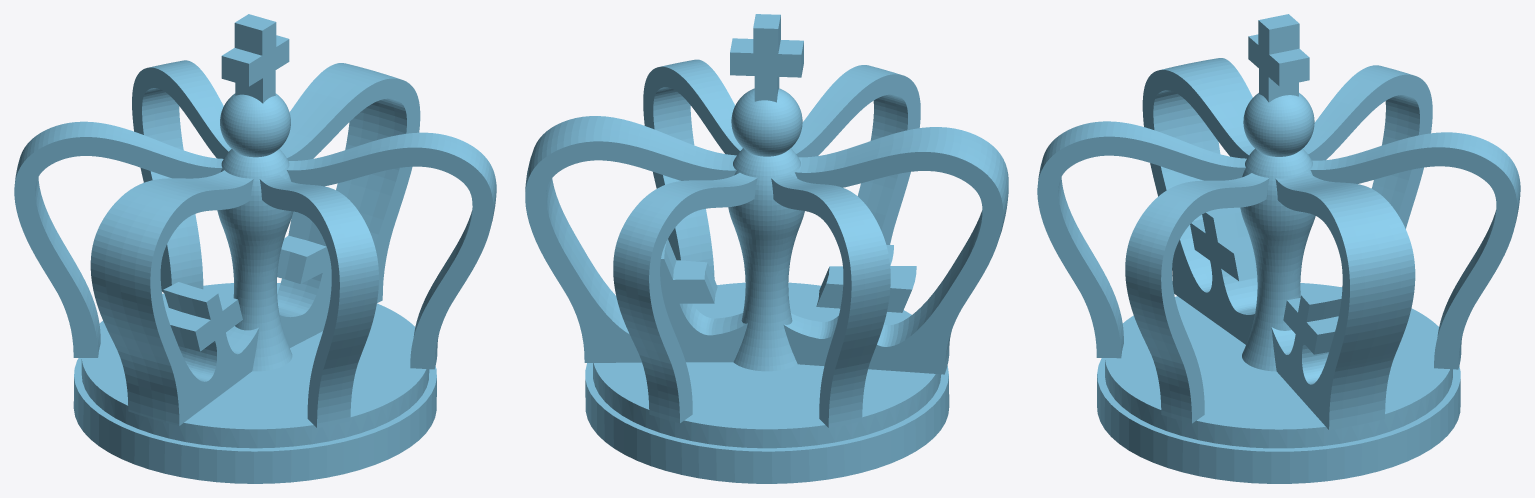
Rendered from BLENDERCROWN.gltf.
The picture shows the model from 3 angles, left to right: view 1: azimuth 30°, elevation 25°; view 2: azimuth 150°, elevation 25°; view 3: azimuth 270°, elevation 25°; orthographic projection.
Parts seen in each view (by area): view 1: CROWN; view 2: CROWN; view 3: CROWN.
Part boxes in pixels (x1,y1,x2,y2): CROWN: (14, 14, 496, 483); CROWN: (525, 14, 1008, 483); CROWN: (1037, 14, 1520, 483).
Bounding box in the file's own units: 6.03 × 5.53 × 6.29.
